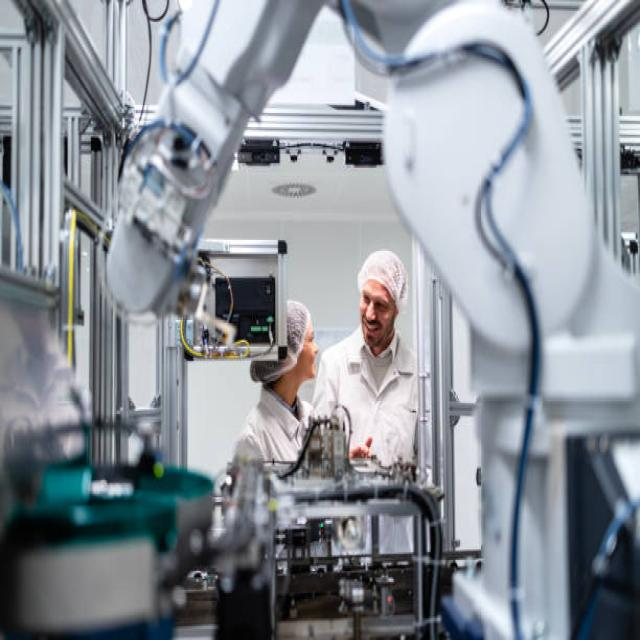Robotic-arm: (100, 0, 640, 453)
